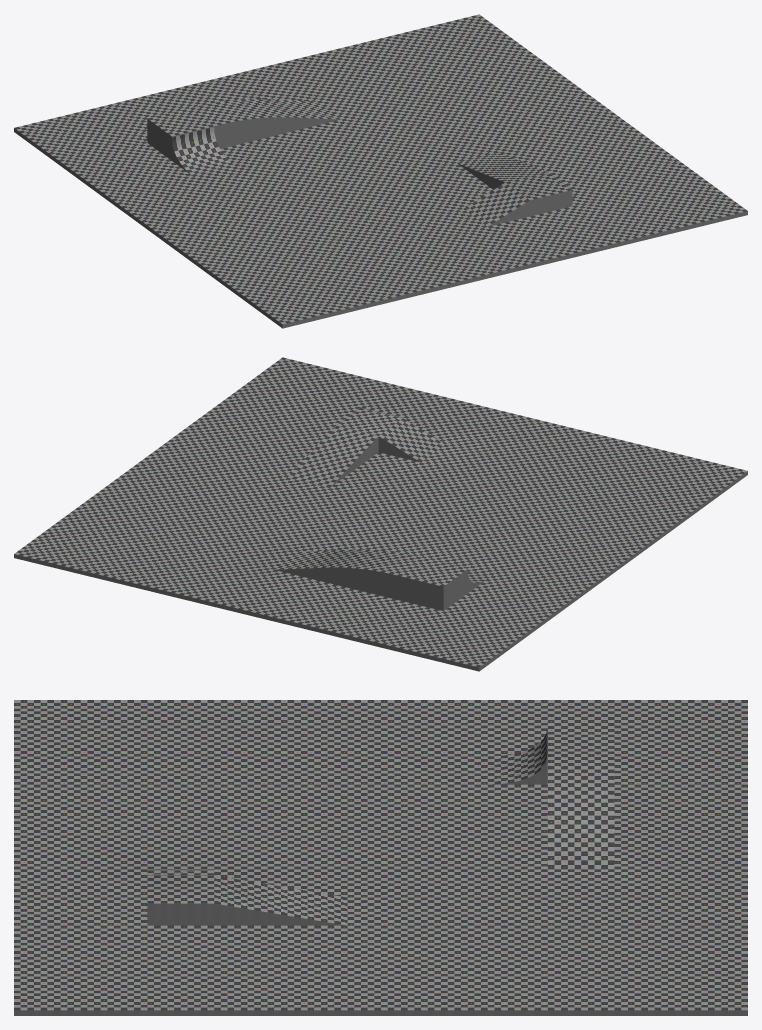
Rendered from another_test_scene.glb.
3 views of the same model, one above another, from view 1: azimuth 30°, elevation 25°; view 2: azimuth 150°, elevation 25°; view 3: azimuth 270°, elevation 25° (orthographic). The views are drawn at different scales.
Parts seen in each view (by area): view 1: Floor; view 2: Floor; view 3: Floor.
Boxes of the visible parts, box(x1,y1,x2,y2) form: Floor: box(14, 14, 747, 328); Floor: box(14, 357, 747, 671); Floor: box(14, 700, 747, 1015).
Bounding box in the file's own units: 60 × 3.5 × 60.
1 material, 1 textured.
